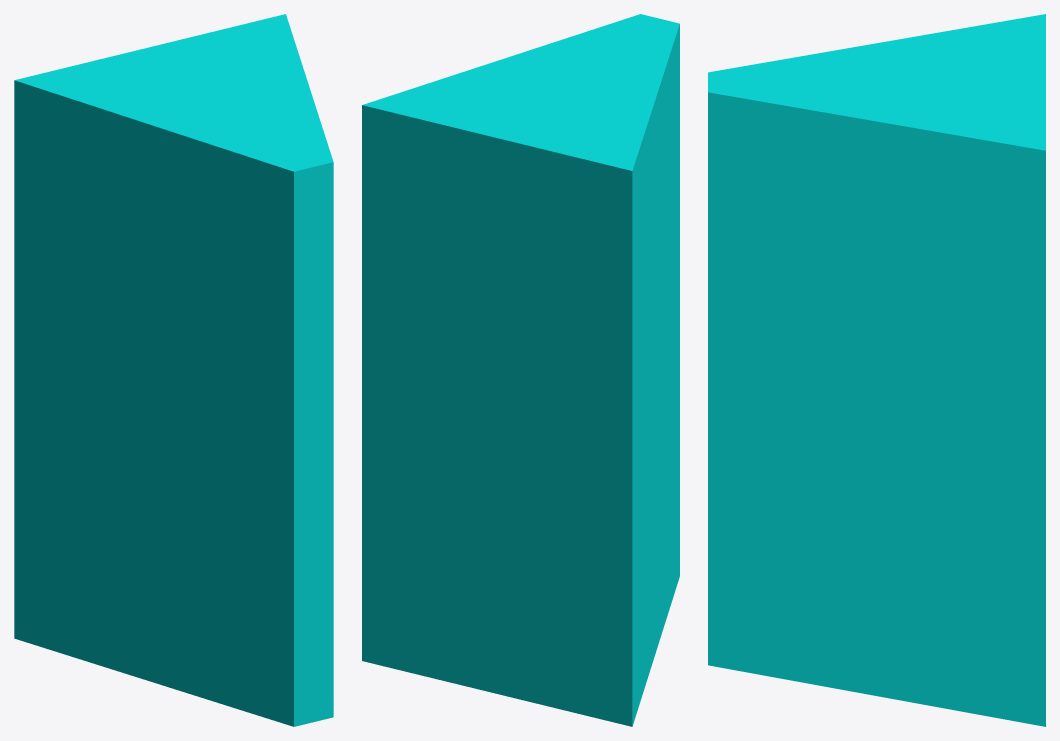
Rendered from SM_Bld_Corner_Tower_02_Collision.fbx.
3 views of the same model, side by side, from view 1: azimuth 30°, elevation 25°; view 2: azimuth 150°, elevation 25°; view 3: azimuth 270°, elevation 25° (orthographic). The views are drawn at different scales.
Parts seen in each view (by area): view 1: SM_Bld_Corner_Tower_02_Collision; view 2: SM_Bld_Corner_Tower_02_Collision; view 3: SM_Bld_Corner_Tower_02_Collision.
Boxes of the visible parts, x1,y1,x2,y2 form: SM_Bld_Corner_Tower_02_Collision: [14, 14, 333, 726]; SM_Bld_Corner_Tower_02_Collision: [362, 14, 679, 726]; SM_Bld_Corner_Tower_02_Collision: [708, 14, 1045, 726].
Size of the model in its own units: 309 by 607 by 323.
